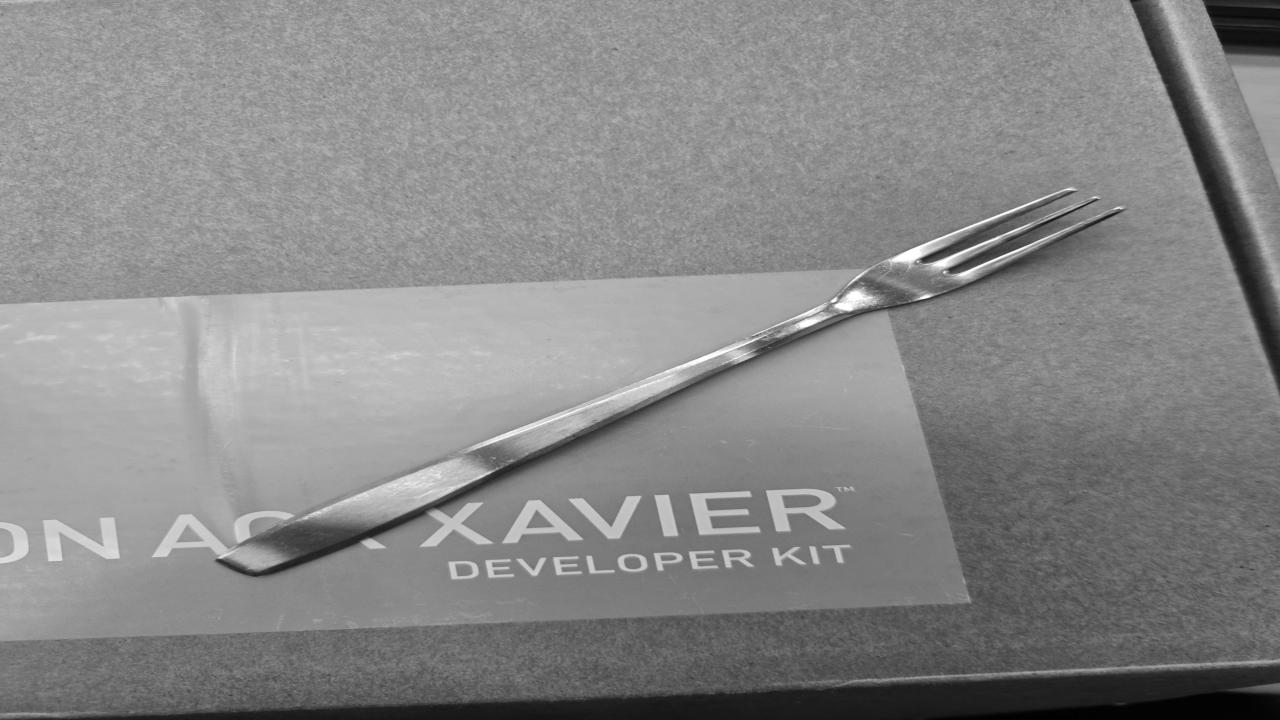fork: (216, 187, 1132, 576)
